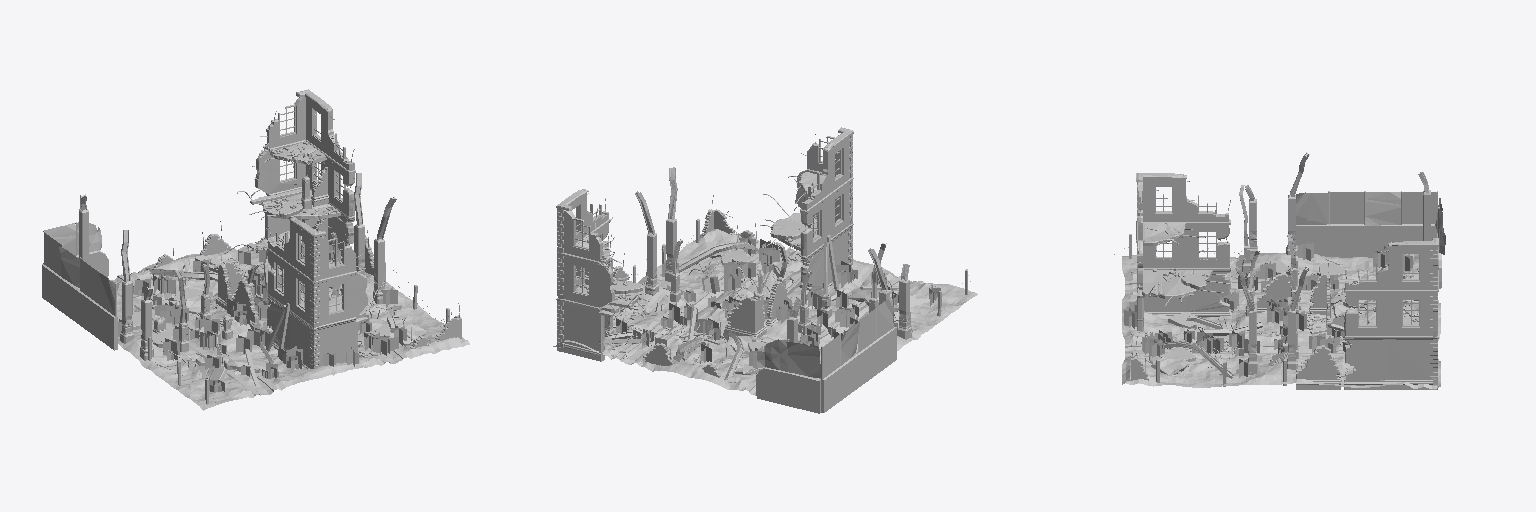
The model's file is ruins.obj.
3 renders of one model, left to right at view 1: azimuth 30°, elevation 25°; view 2: azimuth 150°, elevation 25°; view 3: azimuth 270°, elevation 25°, orthographic.
Visible parts, largest first — view 1: CityRuins1, CityRuins_; view 2: CityRuins1, CityRuins_; view 3: CityRuins1, CityRuins_.
Part boxes in pixels (x1,y1,x2,y2): CityRuins1: (42, 173, 469, 410); CityRuins_: (237, 89, 374, 276); CityRuins1: (553, 127, 977, 413); CityRuins_: (556, 189, 649, 361); CityRuins1: (1114, 152, 1445, 388); CityRuins_: (1296, 238, 1438, 389).
Size of the model in its own units: 757 by 407 by 799.